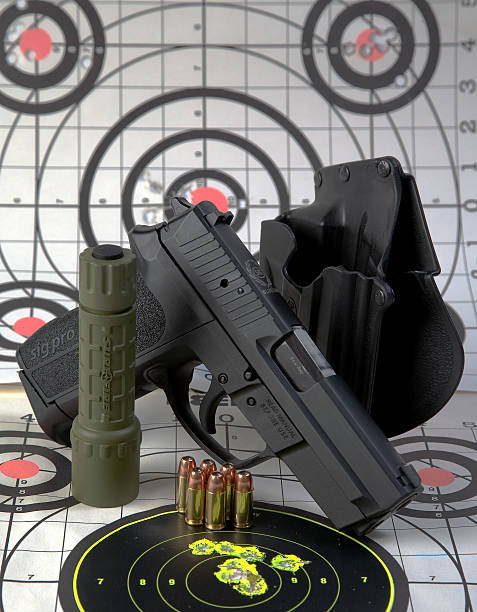pistol: (6, 190, 423, 540)
